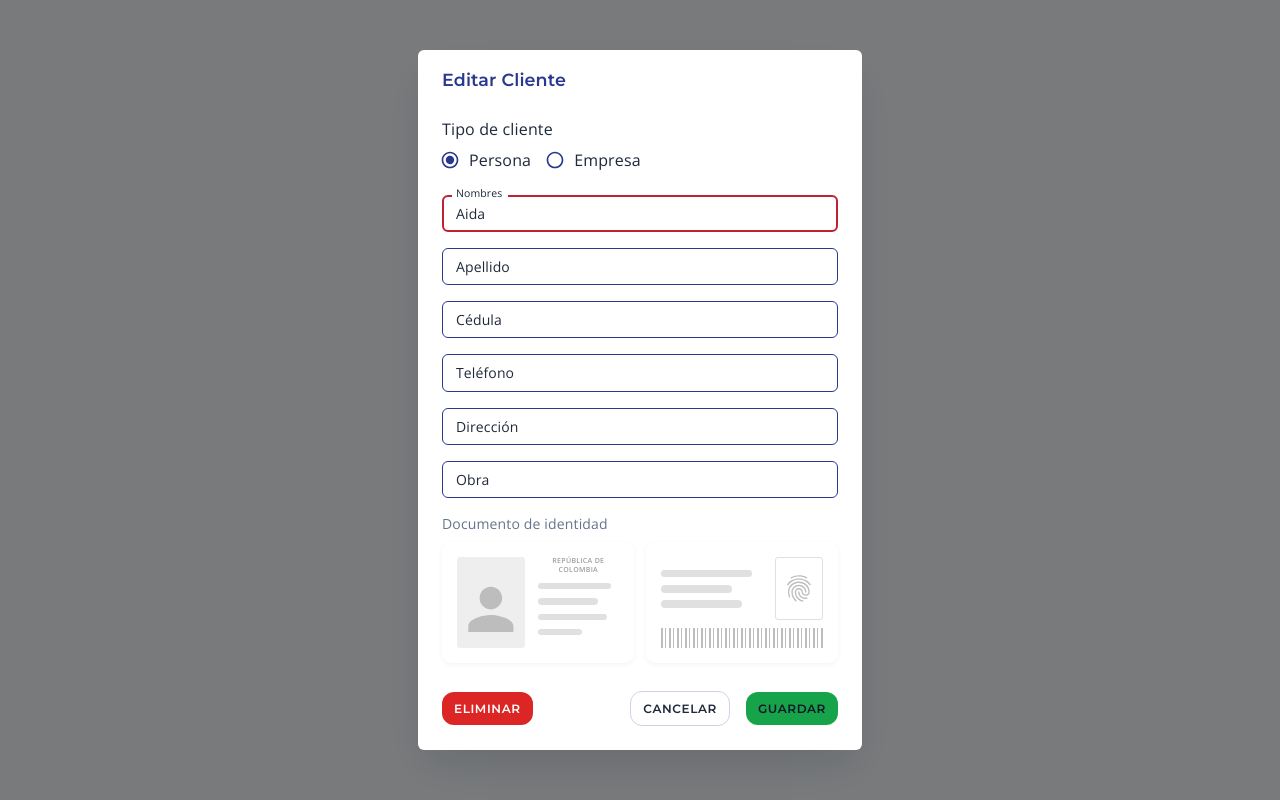
ClienteFormDialog — eliminar › antes de borrar avisa cuántas facturas se lleva por delante
Click the button "Eliminar" at (487,708), box x1=442 y1=692 x2=533 y2=725
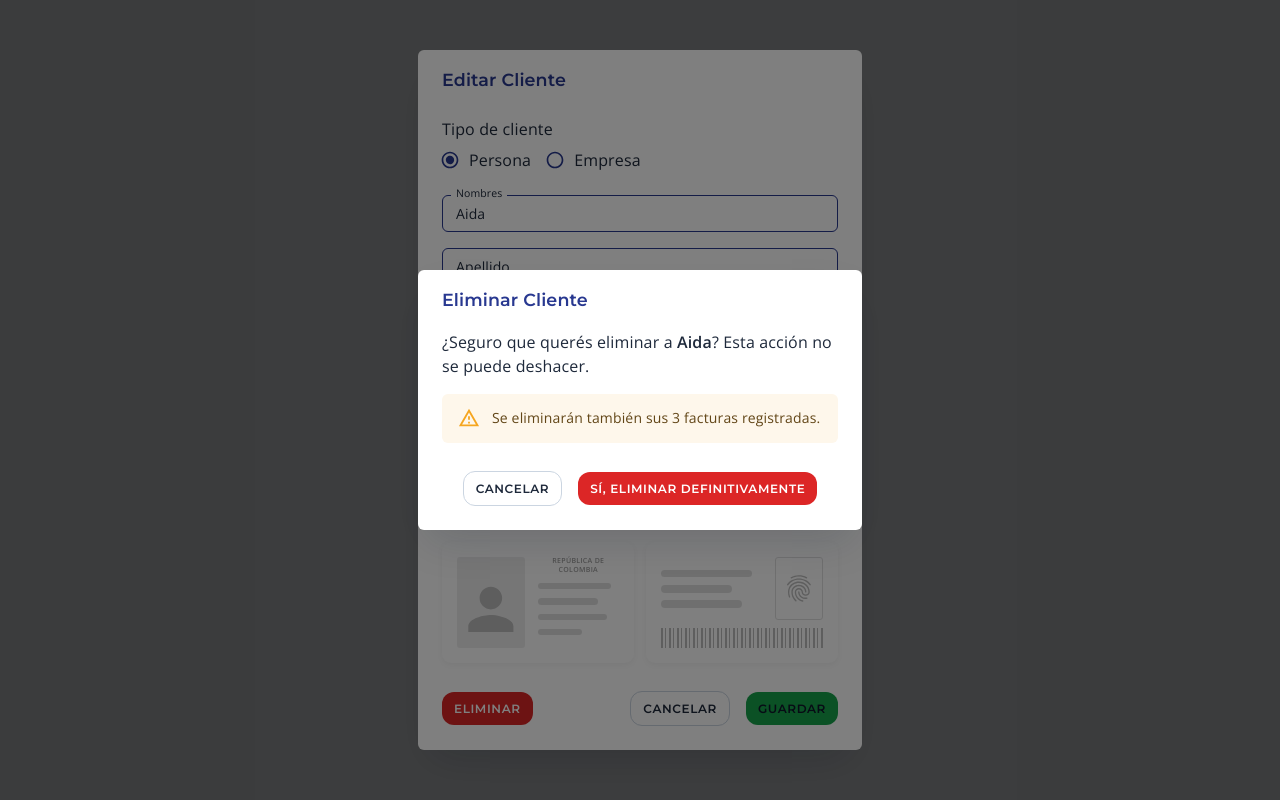
Expected: the text "Se eliminarán también sus 3 facturas registradas." is shown, x1=492 y1=408 x2=820 y2=428
